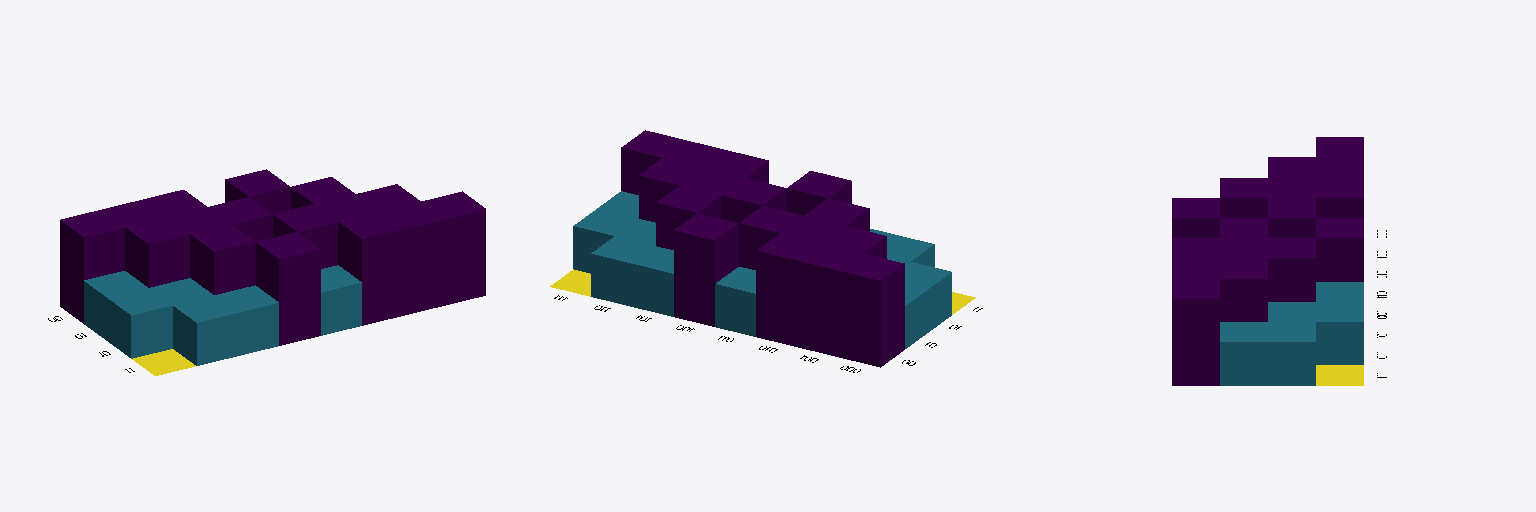
The picture shows the model from 3 angles: view 1: azimuth 30°, elevation 25°; view 2: azimuth 150°, elevation 25°; view 3: azimuth 270°, elevation 25°; orthographic projection.
Parts seen in each view (by area): view 1: Object(6,4)[length_2], Object(4,4)[length_2], Object(1,1)[length_2], Object(8,4)[length_2], Object(7,4)[length_2], Object(1,3)[length_1], Object(3,3)[length_2], Object(2,2)[length_2], Object(2,4)[length_1], Object(3,4)[length_1], Object(5,4)[length_1], Object(5,3)[length_2] (+11 smaller); view 2: Object(1,1)[length_2], Object(5,1)[length_2], Object(3,1)[length_2], Object(2,1)[length_2], Object(7,1)[length_1], Object(6,1)[length_1], Object(4,1)[length_1], Object(6,2)[length_2], Object(8,2)[length_1], Object(8,4)[length_2], Object(4,2)[length_2], Object(7,3)[length_2] (+14 smaller); view 3: Object(8,4)[length_2], Object(5,1)[length_2], Object(6,2)[length_2], Object(7,3)[length_2], Object(8,2)[length_1], Object(8,3)[length_1], Object(7,1)[length_1], Object(3,1)[length_2], Object(3,3)[length_2], Object(4,2)[length_2], Object(4,4)[length_2], Object(2,1)[length_2] (+10 smaller).
Boxes of the visible parts, x1,y1,x2,y2 form: Object(6,4)[length_2]: [338, 212, 403, 325]; Object(4,4)[length_2]: [256, 232, 320, 345]; Object(1,1)[length_2]: [60, 210, 124, 323]; Object(8,4)[length_2]: [421, 191, 485, 305]; Object(7,4)[length_2]: [380, 202, 444, 315]; Object(1,3)[length_1]: [107, 288, 172, 358]; Object(3,3)[length_2]: [190, 224, 255, 294]; Object(2,2)[length_2]: [125, 217, 189, 287]; Object(2,4)[length_1]: [173, 296, 237, 365]; Object(3,4)[length_1]: [214, 285, 278, 355]; Object(5,4)[length_1]: [321, 265, 361, 335]; Object(5,3)[length_2]: [273, 204, 337, 268]; Object(1,1)[length_2]: [839, 253, 904, 367]; Object(5,1)[length_2]: [674, 213, 738, 326]; Object(3,1)[length_2]: [756, 233, 821, 346]; Object(2,1)[length_2]: [798, 243, 862, 356]; Object(7,1)[length_1]: [591, 236, 655, 306]; Object(6,1)[length_1]: [632, 246, 673, 316]; Object(4,1)[length_1]: [715, 267, 755, 336]; Object(6,2)[length_2]: [656, 185, 720, 249]; Object(8,2)[length_1]: [573, 209, 637, 273]; Object(8,4)[length_2]: [621, 130, 685, 194]; Object(4,2)[length_2]: [739, 206, 802, 269]; Object(7,3)[length_2]: [639, 158, 702, 222]; Object(8,4)[length_2]: [1172, 279, 1219, 385]; Object(5,1)[length_2]: [1316, 218, 1363, 281]; Object(6,2)[length_2]: [1268, 238, 1315, 301]; Object(7,3)[length_2]: [1220, 258, 1267, 321]; Object(8,2)[length_1]: [1268, 322, 1315, 385]; Object(8,3)[length_1]: [1220, 322, 1267, 385]; Object(7,1)[length_1]: [1316, 302, 1363, 364]; Object(3,1)[length_2]: [1316, 178, 1363, 217]; Object(3,3)[length_2]: [1220, 178, 1267, 217]; Object(4,2)[length_2]: [1268, 198, 1315, 237]; Object(4,4)[length_2]: [1172, 198, 1219, 237]; Object(2,1)[length_2]: [1316, 157, 1363, 177].
Bounding box in the file's own units: 8.54 × 2 × 4.5.